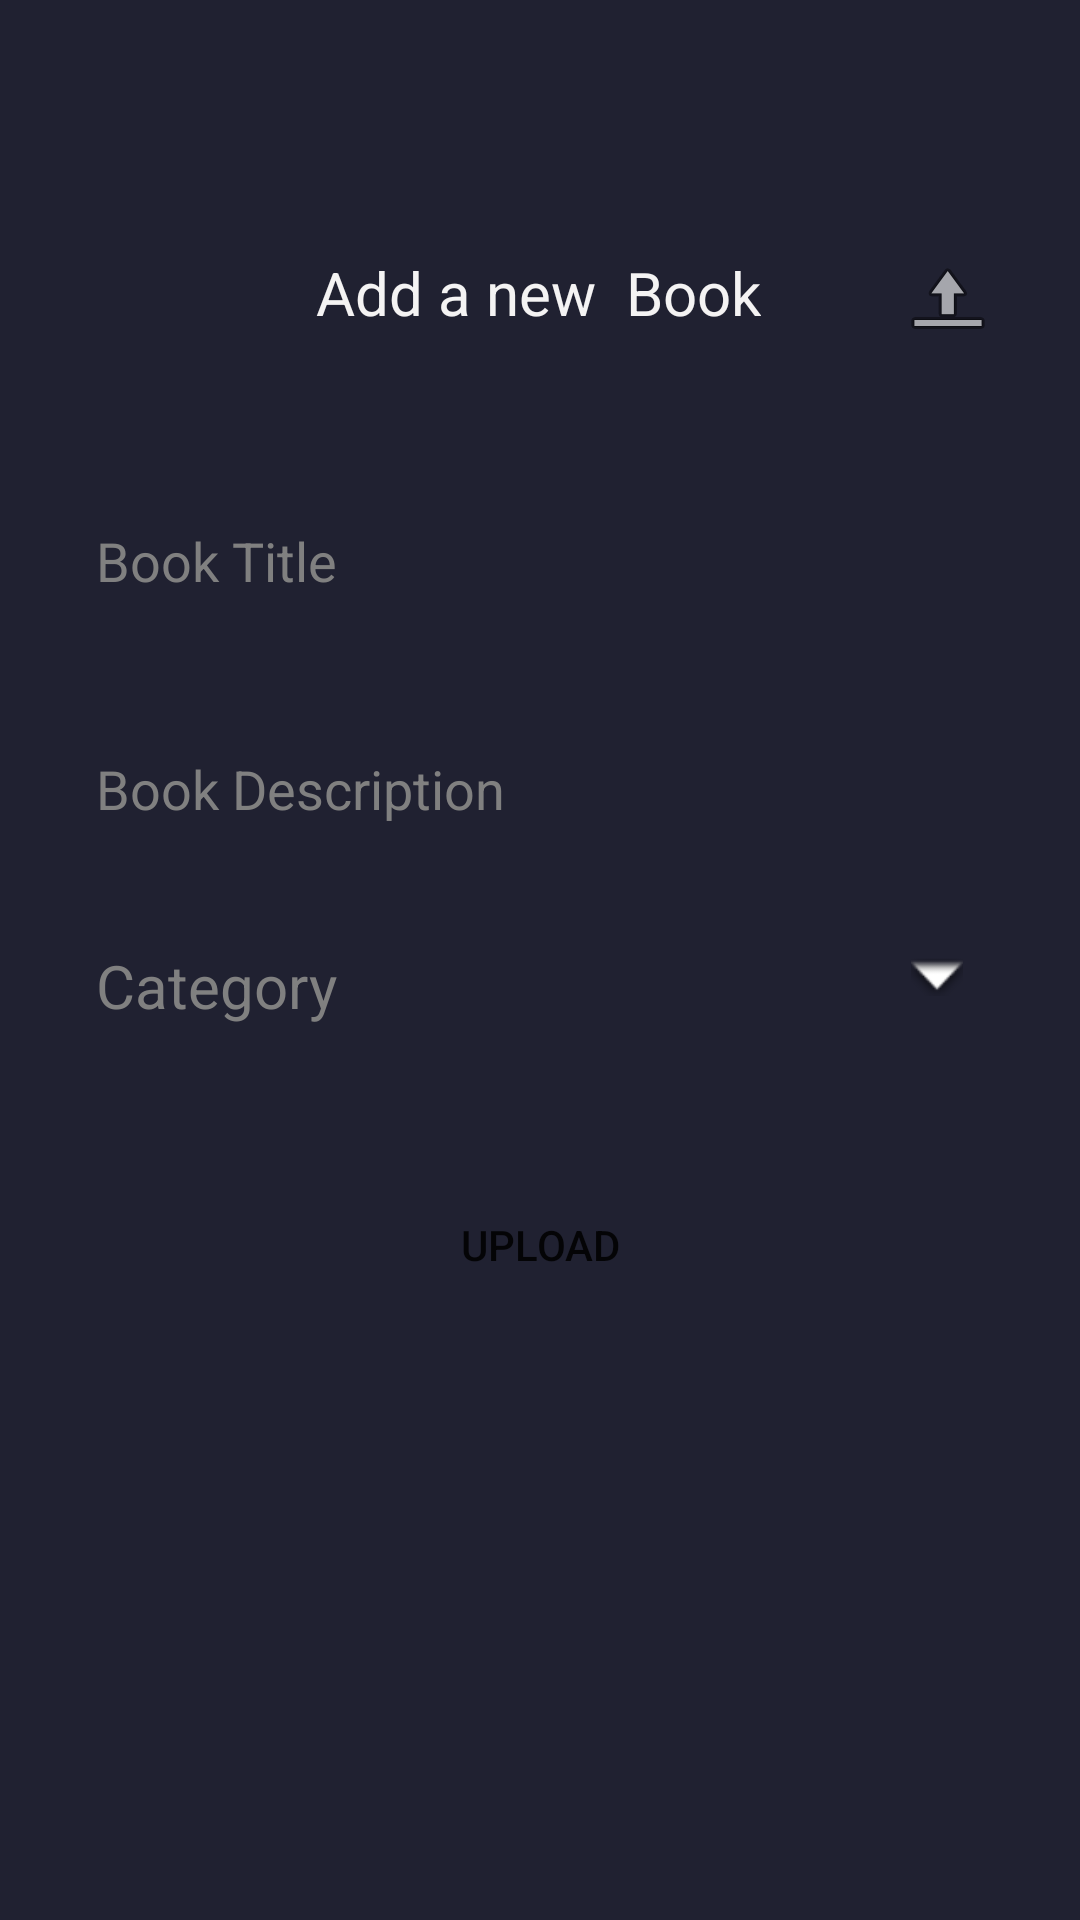

Where to tap for icons on this 1080 × 1920 app screen, as (x,y):
arrow down float: (937,976)
upload: (948,298)
